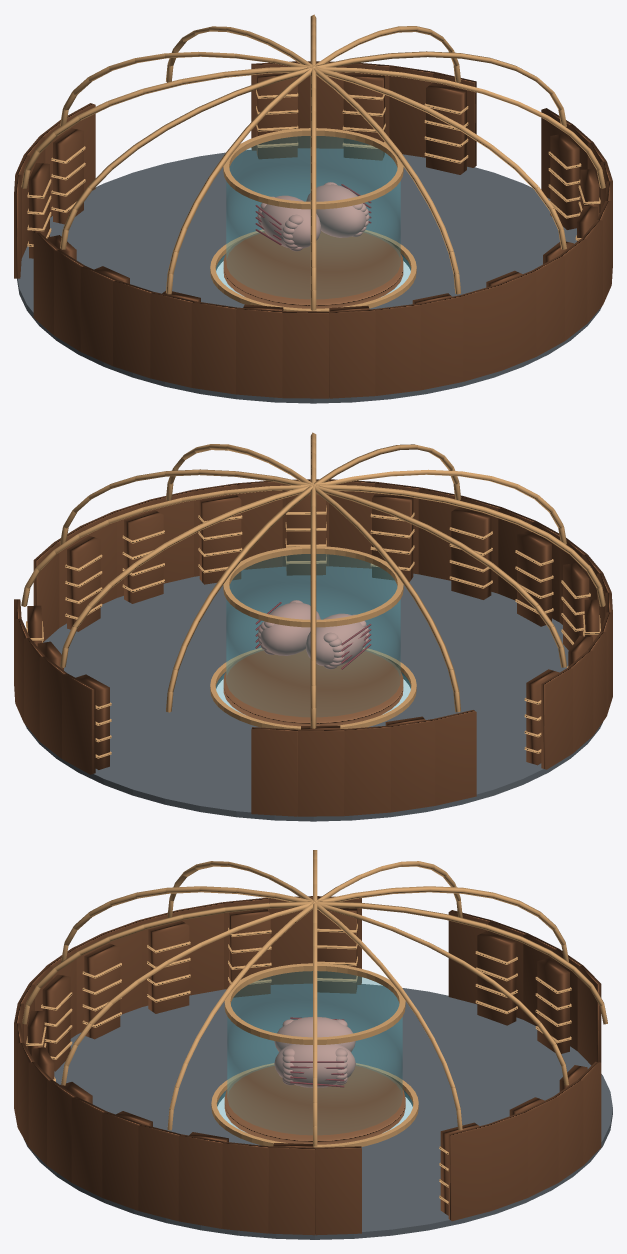
The model's file is Library_Halcyon_Upper.glb.
The picture shows the model from 3 angles, top to bottom: view 1: azimuth 30°, elevation 25°; view 2: azimuth 150°, elevation 25°; view 3: azimuth 270°, elevation 25°; orthographic projection.
Parts seen in each view (by area): view 1: Circular_bulkhead (×26), Circular_walkway, Electrogel_tank_glass, Bookcase (×7), Electrogel_base, Brain_hemisphere (×2), Tank_cap, Core_rim; view 2: Circular_walkway, Circular_bulkhead (×27), Bookcase (×12), Electrogel_tank_glass, Electrogel_base, Brain_hemisphere (×2), Tank_cap, Core_rim; view 3: Circular_bulkhead (×27), Circular_walkway, Electrogel_tank_glass, Bookcase (×9), Electrogel_base, Tank_cap, Brain_hemisphere (×2), Core_rim.
Part boxes in pixels (x1=…): Circular_bulkhead (×26): x1=14, y1=61, x2=611, y2=398; Circular_walkway: x1=17, y1=148, x2=601, y2=403; Electrogel_tank_glass: x1=226, y1=136, x2=400, y2=298; Bookcase (×7): x1=29, y1=73, x2=599, y2=258; Electrogel_base: x1=223, y1=231, x2=403, y2=308; Brain_hemisphere (×2): x1=260, y1=184, x2=366, y2=248; Tank_cap: x1=223, y1=128, x2=403, y2=209; Core_rim: x1=210, y1=229, x2=416, y2=311; Circular_walkway: x1=25, y1=566, x2=602, y2=821; Circular_bulkhead (×27): x1=15, y1=479, x2=612, y2=816; Bookcase (×12): x1=27, y1=490, x2=599, y2=769; Electrogel_tank_glass: x1=226, y1=554, x2=400, y2=716; Electrogel_base: x1=223, y1=649, x2=403, y2=726; Brain_hemisphere (×2): x1=260, y1=602, x2=366, y2=666; Tank_cap: x1=223, y1=546, x2=403, y2=627; Core_rim: x1=210, y1=647, x2=416, y2=729; Circular_bulkhead (×27): x1=17, y1=896, x2=601, y2=1235; Circular_walkway: x1=23, y1=983, x2=612, y2=1239; Electrogel_tank_glass: x1=227, y1=971, x2=402, y2=1134; Bookcase (×9): x1=27, y1=907, x2=569, y2=1215; Electrogel_base: x1=224, y1=1064, x2=405, y2=1144; Tank_cap: x1=224, y1=963, x2=405, y2=1044; Brain_hemisphere (×2): x1=274, y1=1017, x2=355, y2=1087; Core_rim: x1=211, y1=1063, x2=418, y2=1147.
Size of the model in its own units: 20.62 by 8.03 by 20.51.
